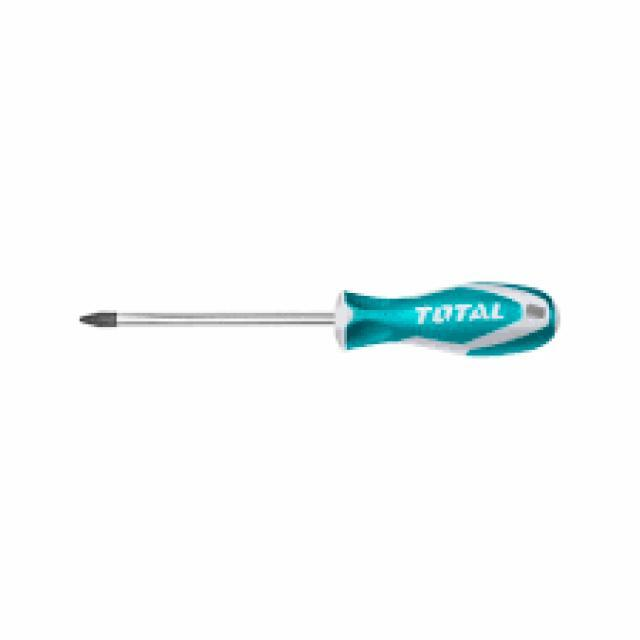screwdriver: (71, 273, 572, 361)
